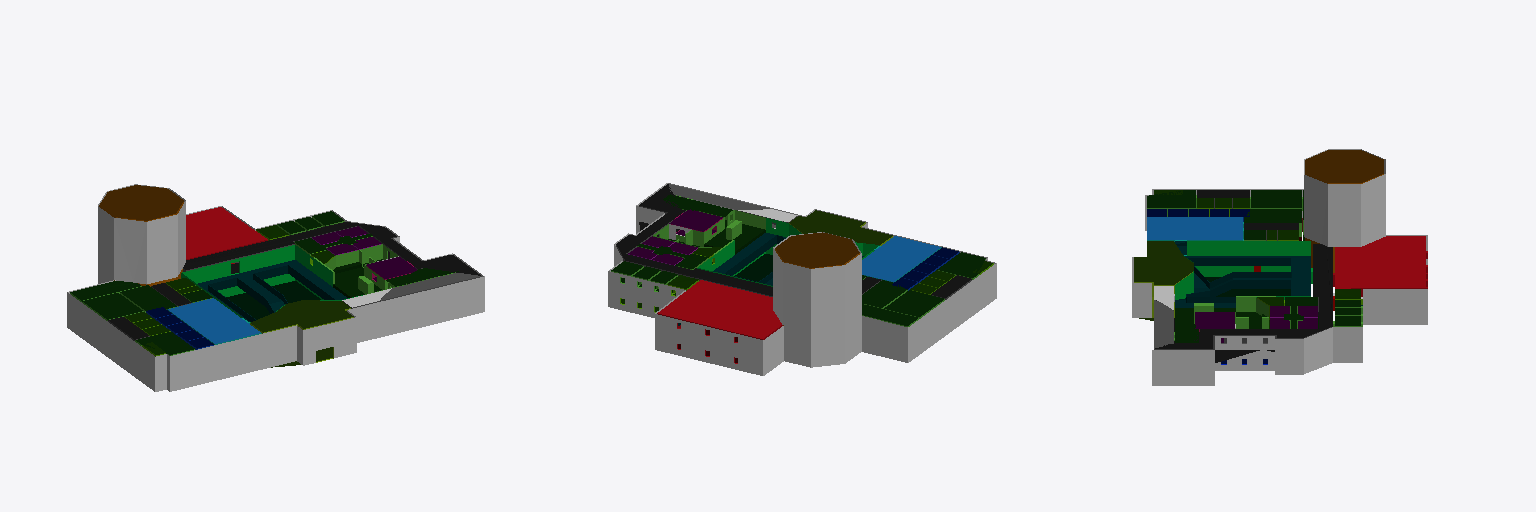
Rendered from hospital1.obj.
3 views of the same model, side by side, from view 1: azimuth 30°, elevation 25°; view 2: azimuth 150°, elevation 25°; view 3: azimuth 270°, elevation 25° (orthographic).
Visible parts, largest first — view 1: hospital_left_lvl0_Cube; view 2: hospital_left_lvl0_Cube; view 3: hospital_left_lvl0_Cube.
Boxes of the visible parts, x1=… form: hospital_left_lvl0_Cube: x1=67, y1=184, x2=484, y2=391; hospital_left_lvl0_Cube: x1=608, y1=183, x2=996, y2=375; hospital_left_lvl0_Cube: x1=1132, y1=149, x2=1427, y2=385.
Size of the model in its own units: 57.7 by 16.56 by 44.89.